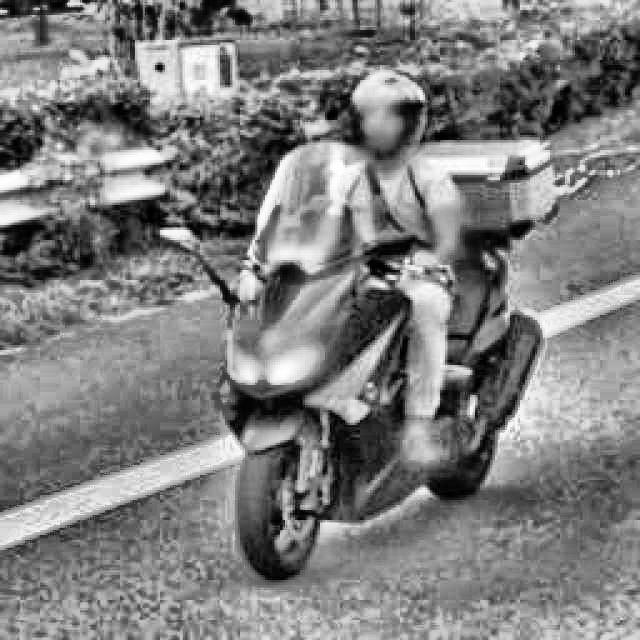motorcycle: (123, 126, 565, 582)
